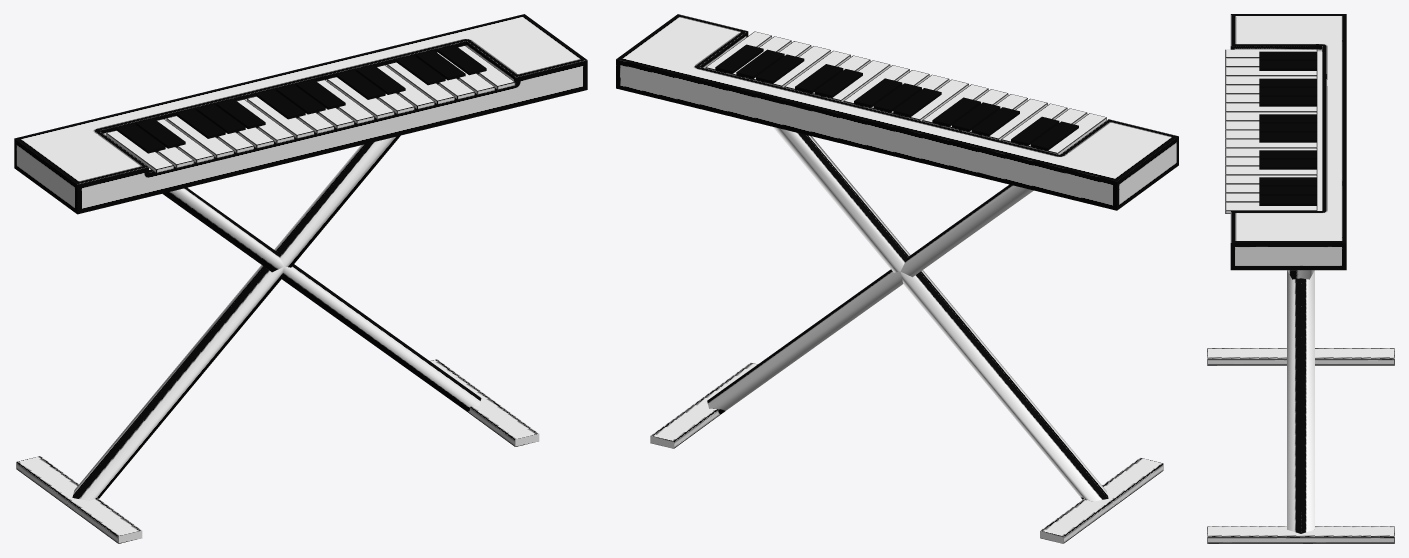
The model's file is klavier.FBX.
3 renders of one model, left to right at view 1: azimuth 30°, elevation 25°; view 2: azimuth 150°, elevation 25°; view 3: azimuth 270°, elevation 25°, orthographic. The views are drawn at different scales.
Parts seen in each view (by area): view 1: Box003, Cylinder005, Cylinder006, Box004, Box005, taps, taps003, taps007, taps011, taps014, taps013, taps010 (+16 smaller); view 2: Box003, Cylinder005, Cylinder006, Box004, Box005, taps, taps003, taps007, taps011, taps014, taps024, taps034 (+11 smaller); view 3: Box003, Cylinder006, Box005, Box004, taps006, taps010, taps013, taps002, taps026, taps029, taps018, taps022 (+23 smaller).
Boxes of the visible parts, bbox=[...] form: Box003: bbox=[14, 14, 587, 214]; Cylinder005: bbox=[67, 135, 400, 504]; Cylinder006: bbox=[162, 187, 481, 411]; Box004: bbox=[16, 456, 142, 543]; Box005: bbox=[430, 359, 539, 446]; taps: bbox=[106, 130, 173, 173]; taps003: bbox=[166, 116, 234, 158]; taps007: bbox=[247, 96, 314, 138]; taps011: bbox=[327, 77, 394, 119]; taps014: bbox=[387, 62, 454, 104]; taps013: bbox=[377, 65, 434, 109]; taps010: bbox=[317, 79, 374, 124]; Box003: bbox=[616, 14, 1178, 210]; Cylinder005: bbox=[773, 127, 1113, 505]; Cylinder006: bbox=[707, 184, 1033, 413]; Box004: bbox=[1040, 457, 1163, 543]; Box005: bbox=[650, 362, 757, 448]; taps: bbox=[1040, 113, 1106, 154]; taps003: bbox=[981, 98, 1047, 140]; taps007: bbox=[902, 79, 968, 120]; taps011: bbox=[823, 60, 890, 101]; taps014: bbox=[764, 46, 830, 87]; taps024: bbox=[893, 88, 941, 117]; taps034: bbox=[715, 44, 763, 73]; Box003: bbox=[1230, 14, 1346, 270]; Cylinder006: bbox=[1287, 270, 1314, 533]; Box005: bbox=[1207, 526, 1394, 543]; Box004: bbox=[1207, 348, 1394, 365]; taps006: bbox=[1225, 103, 1317, 112]; taps010: bbox=[1225, 139, 1317, 148]; taps013: bbox=[1225, 166, 1317, 175]; taps002: bbox=[1225, 67, 1317, 76]; taps026: bbox=[1259, 132, 1317, 142]; taps029: bbox=[1259, 159, 1317, 169]; taps018: bbox=[1259, 60, 1317, 70]; taps022: bbox=[1259, 96, 1317, 106].
Size of the model in its own units: 63.49 by 42.57 by 21.99.
